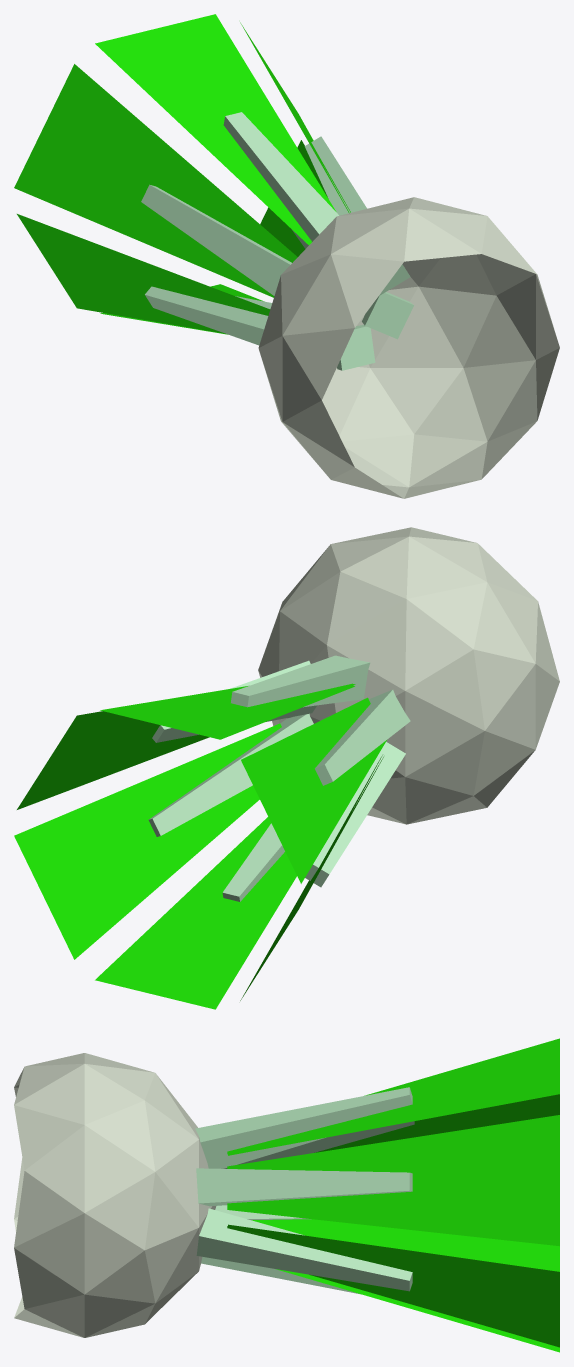
Rendered from KenkonDaikon.fbx.
3 renders of one model, top to bottom at view 1: azimuth 30°, elevation 25°; view 2: azimuth 150°, elevation 25°; view 3: azimuth 270°, elevation 25°, orthographic. The views are drawn at different scales.
Parts seen in each view (by area): view 1: ICO球; view 2: ICO球; view 3: ICO球.
Boxes of the visible parts, box(x1,y1,x2,y2) form: ICO球: box(14, 14, 559, 498); ICO球: box(14, 527, 559, 1009); ICO球: box(14, 1038, 559, 1352).
Bounding box in the file's own units: 4.1 × 3.8 × 7.14.
